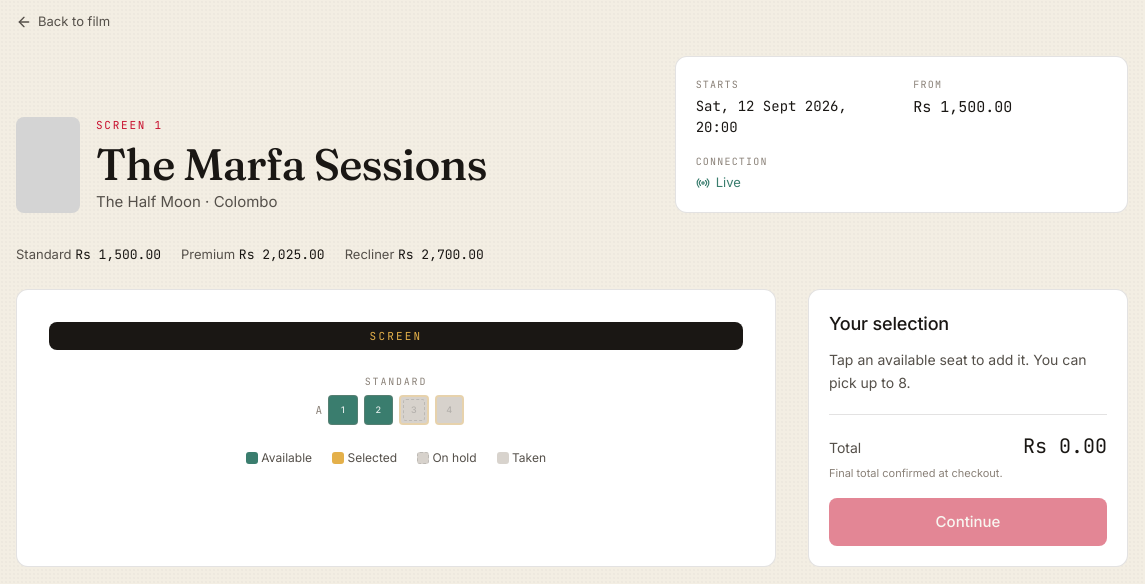
Scenario: ShowtimePage › removes a selected seat via the sidebar remove button, resetting the total
This screenshot has width=1145, height=584.
Click the button "1" at (343, 410), box [328, 395, 358, 425]
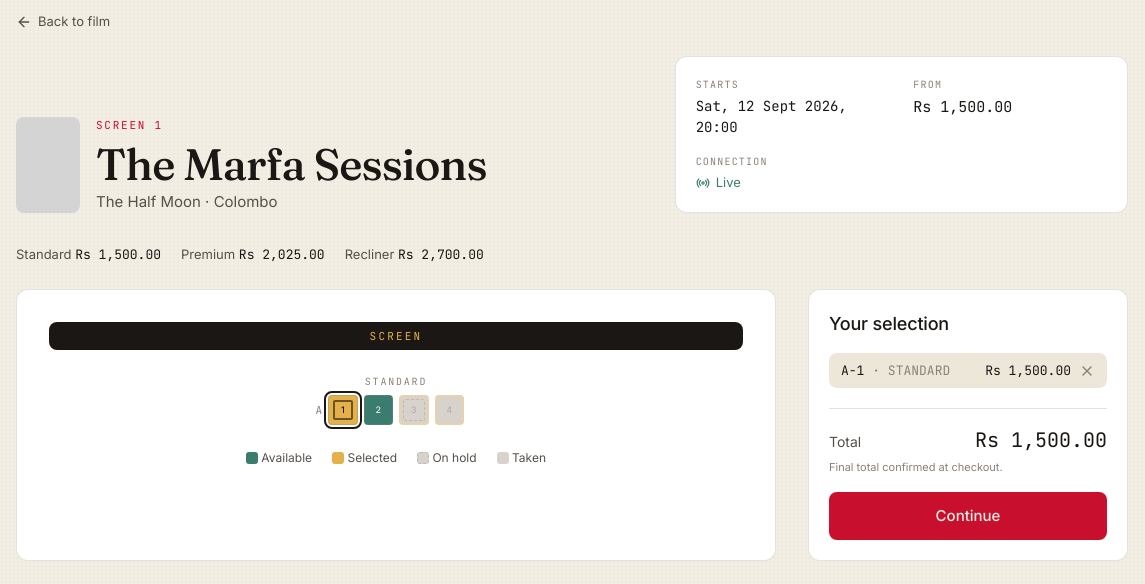
Expected: the button "Continue" is enabled, [829, 492, 1107, 540]
Click the button named "remove seat" at (1087, 370), box [1079, 362, 1095, 378]
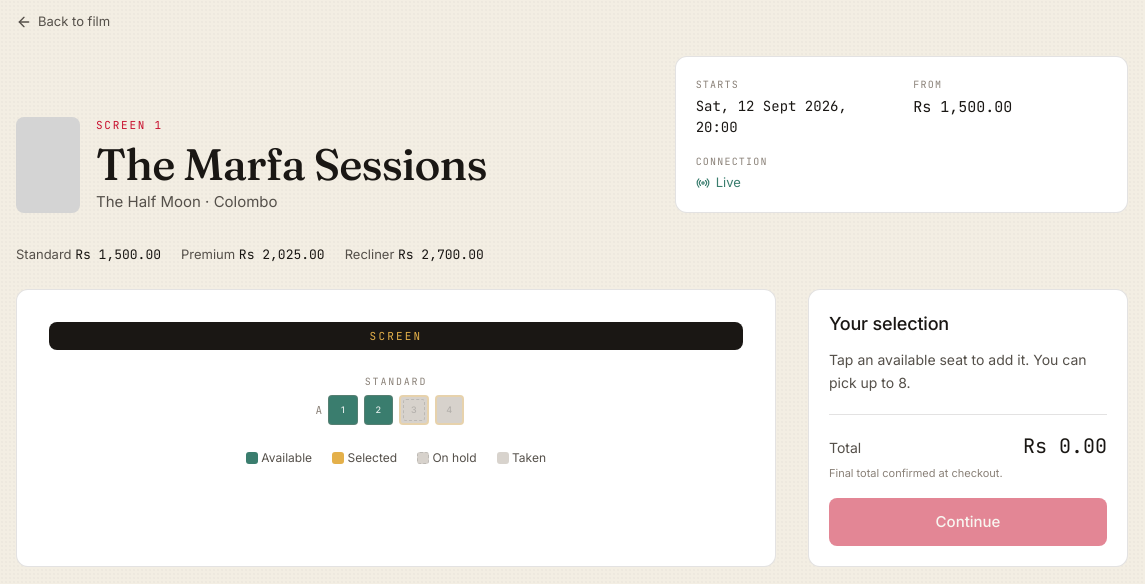
Expected: the text "Tap an available seat to add it. You can pick up to 8." is shown, [829, 349, 1107, 394]
Expected: the button "Continue" is disabled, [829, 498, 1107, 546]
